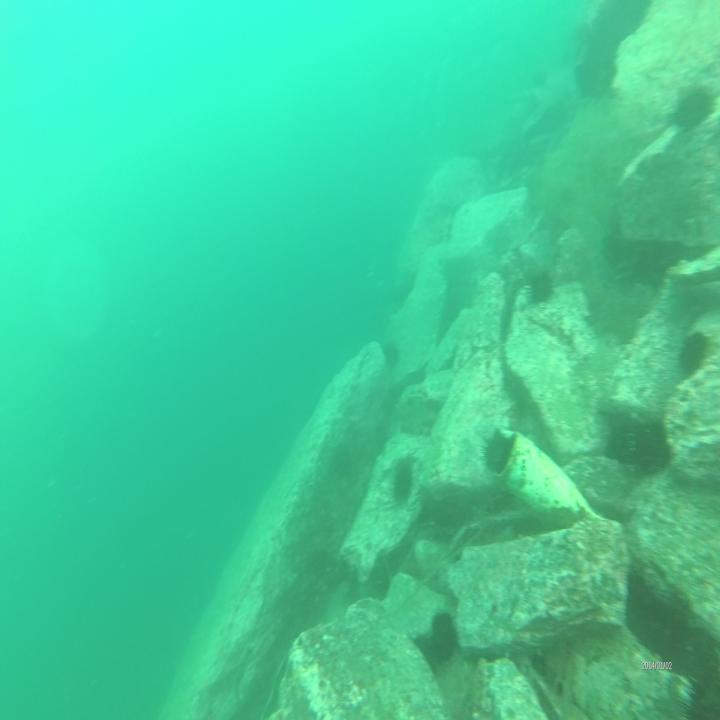echinus: (672, 85, 712, 135), (429, 606, 461, 666), (679, 327, 711, 378), (479, 428, 513, 473), (525, 264, 554, 304), (393, 461, 415, 508), (330, 444, 352, 484), (379, 338, 399, 372)
